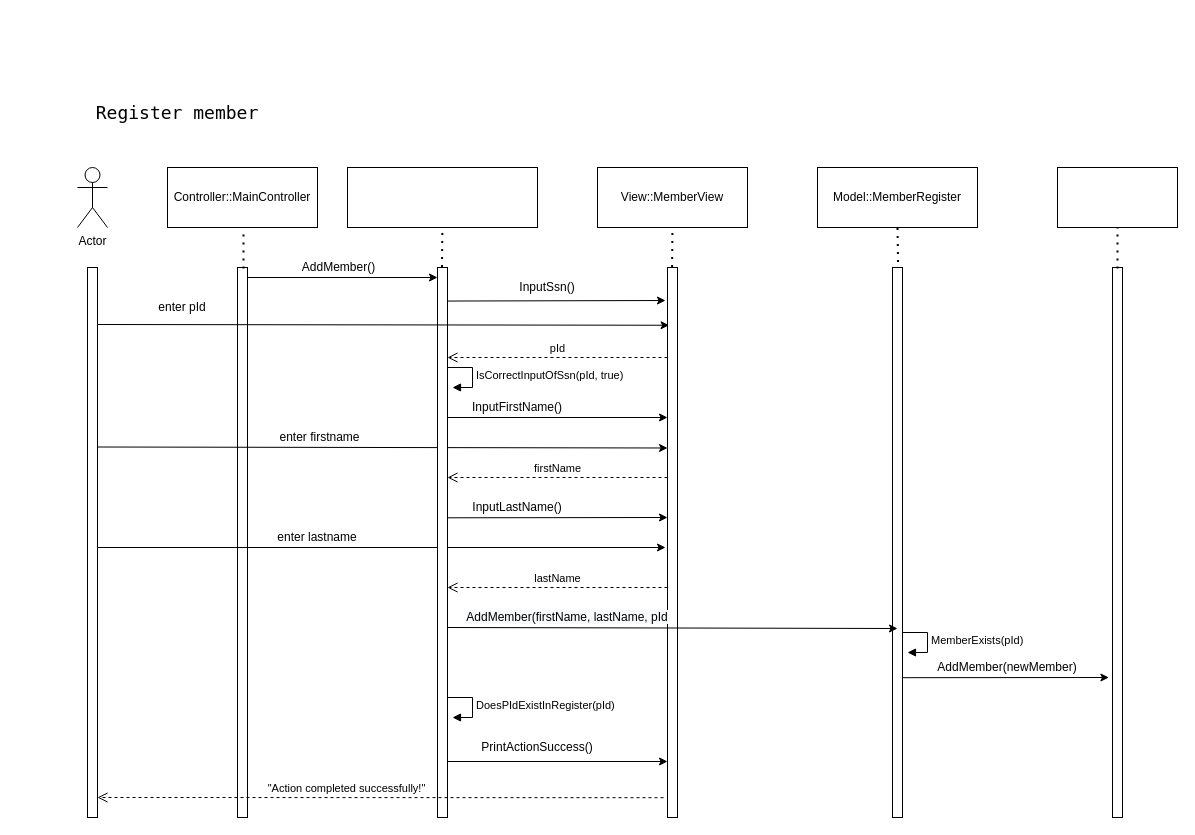
This 1195x835 diagram has some shape labels left out. The shapes that lost their labels are listed below. From the top down, each one's centre as x and y in pixels, then its label:
At (442,197): "Controller::MemberInputController".
At (1117,197): "Model::DatabaseApi".
